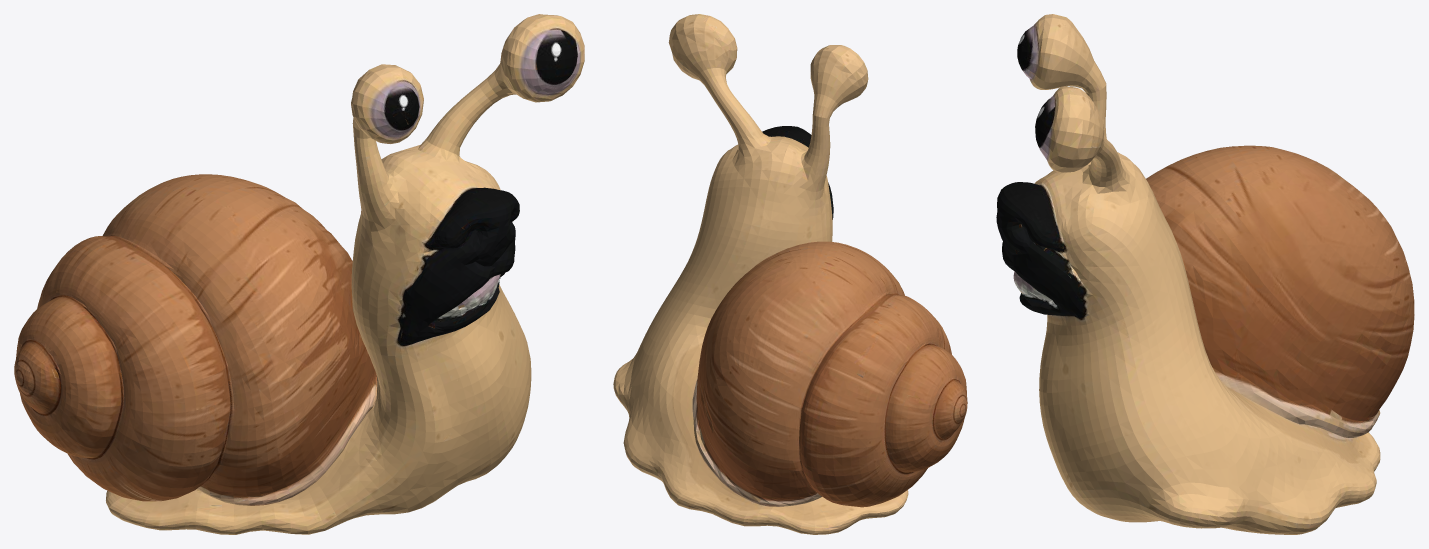
The model's file is narek.glb.
3 renders of one model, left to right at view 1: azimuth 30°, elevation 25°; view 2: azimuth 150°, elevation 25°; view 3: azimuth 270°, elevation 25°, orthographic. The views are drawn at different scales.
Size of the model in its own units: 1.9 by 1.87 by 1.5.
Materials: 1 (1 with a texture image).
